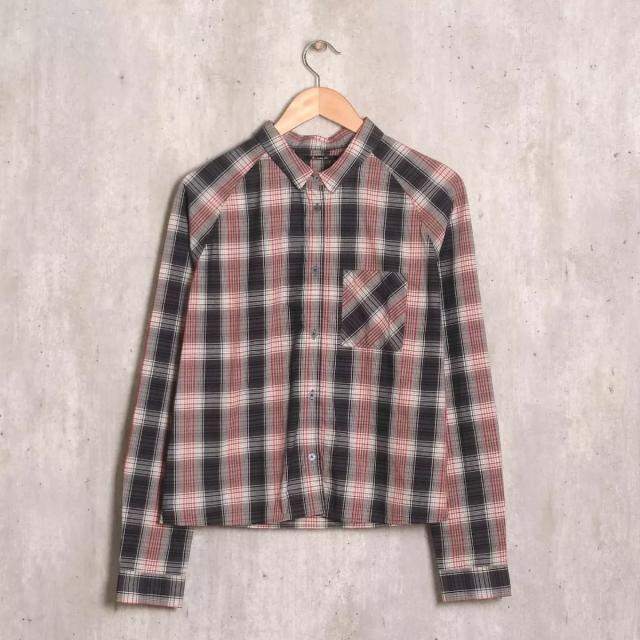long sleeve shirt: (112, 119, 515, 611)
